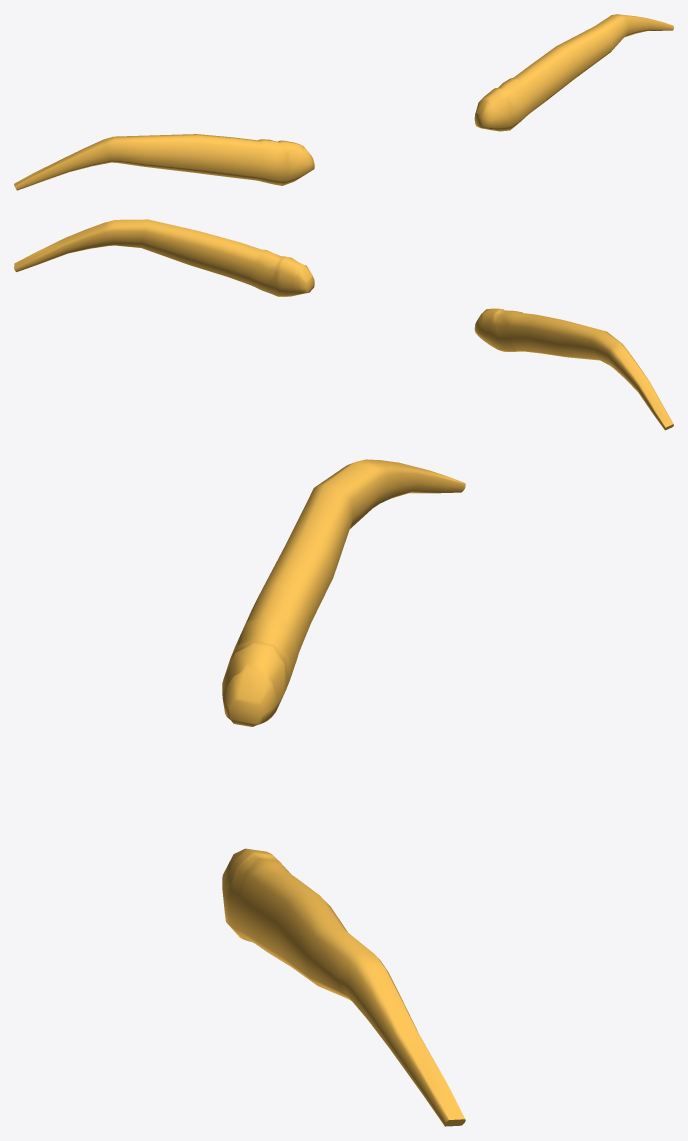
The model's file is Eyebrows_10_05.fbx.
3 views of the same model, one above another, from view 1: azimuth 30°, elevation 25°; view 2: azimuth 150°, elevation 25°; view 3: azimuth 270°, elevation 25° (orthographic). The views are drawn at different scales.
Visible parts, largest first — view 1: Eyebrows_10_05; view 2: Eyebrows_10_05; view 3: Eyebrows_10_05.
Part boxes in pixels (x1,y1,x2,y2): Eyebrows_10_05: [14, 14, 673, 190]; Eyebrows_10_05: [14, 219, 673, 430]; Eyebrows_10_05: [222, 459, 465, 1126].
Size of the model in its own units: 19.53 by 1.75 by 3.13.
